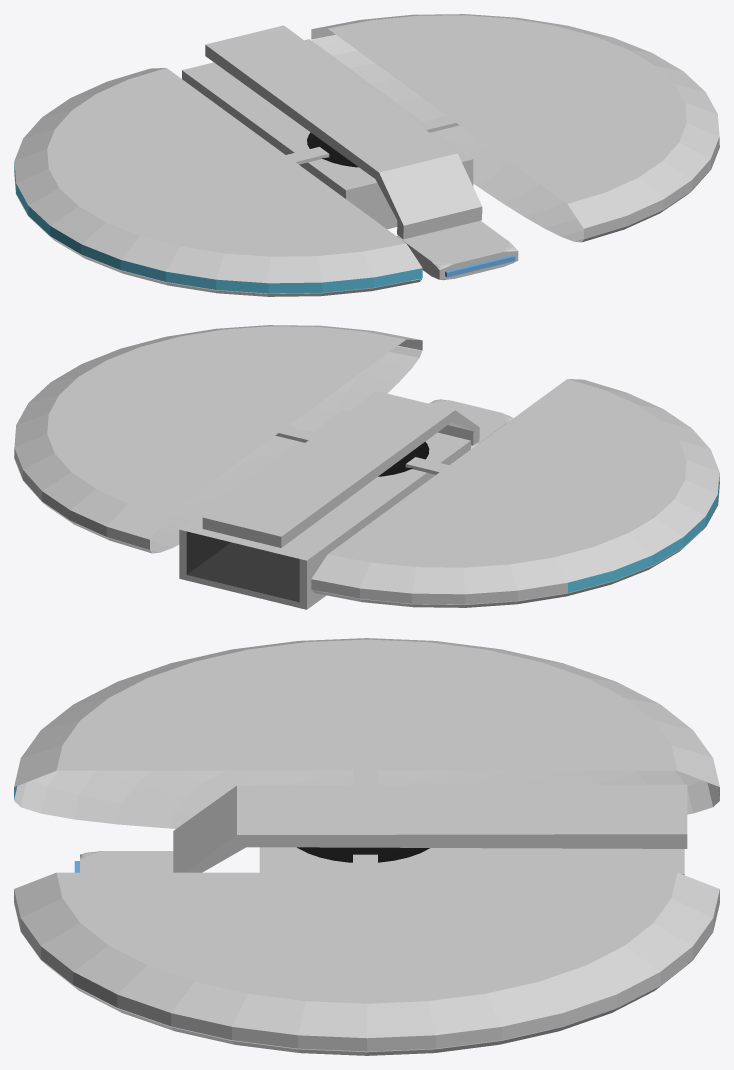
The model's file is drone-v5.fbx.
The picture shows the model from 3 angles, top to bottom: view 1: azimuth 30°, elevation 25°; view 2: azimuth 150°, elevation 25°; view 3: azimuth 270°, elevation 25°; orthographic projection. The views are drawn at different scales.
Parts seen in each view (by area): view 1: Cube, Cube.001, Cube.006, Cube.002; view 2: Cube, Cube.001, Cube.006, Cube.002; view 3: Cube.001, Cube, Cube.006, Cube.002.
Boxes of the visible parts, x1,y1,x2,y2 form: Cube: (14,68,422,296); Cube.001: (311,14,719,242); Cube.006: (205,25,518,280); Cube.002: (182,39,473,229); Cube: (311,379,719,607); Cube.001: (14,325,422,553); Cube.006: (202,391,513,547); Cube.002: (179,409,470,609); Cube.001: (14,872,719,1055); Cube: (14,638,719,828); Cube.006: (74,770,687,872); Cube.002: (259,847,684,874).
Size of the model in its own units: 2312 by 237 by 1721.
